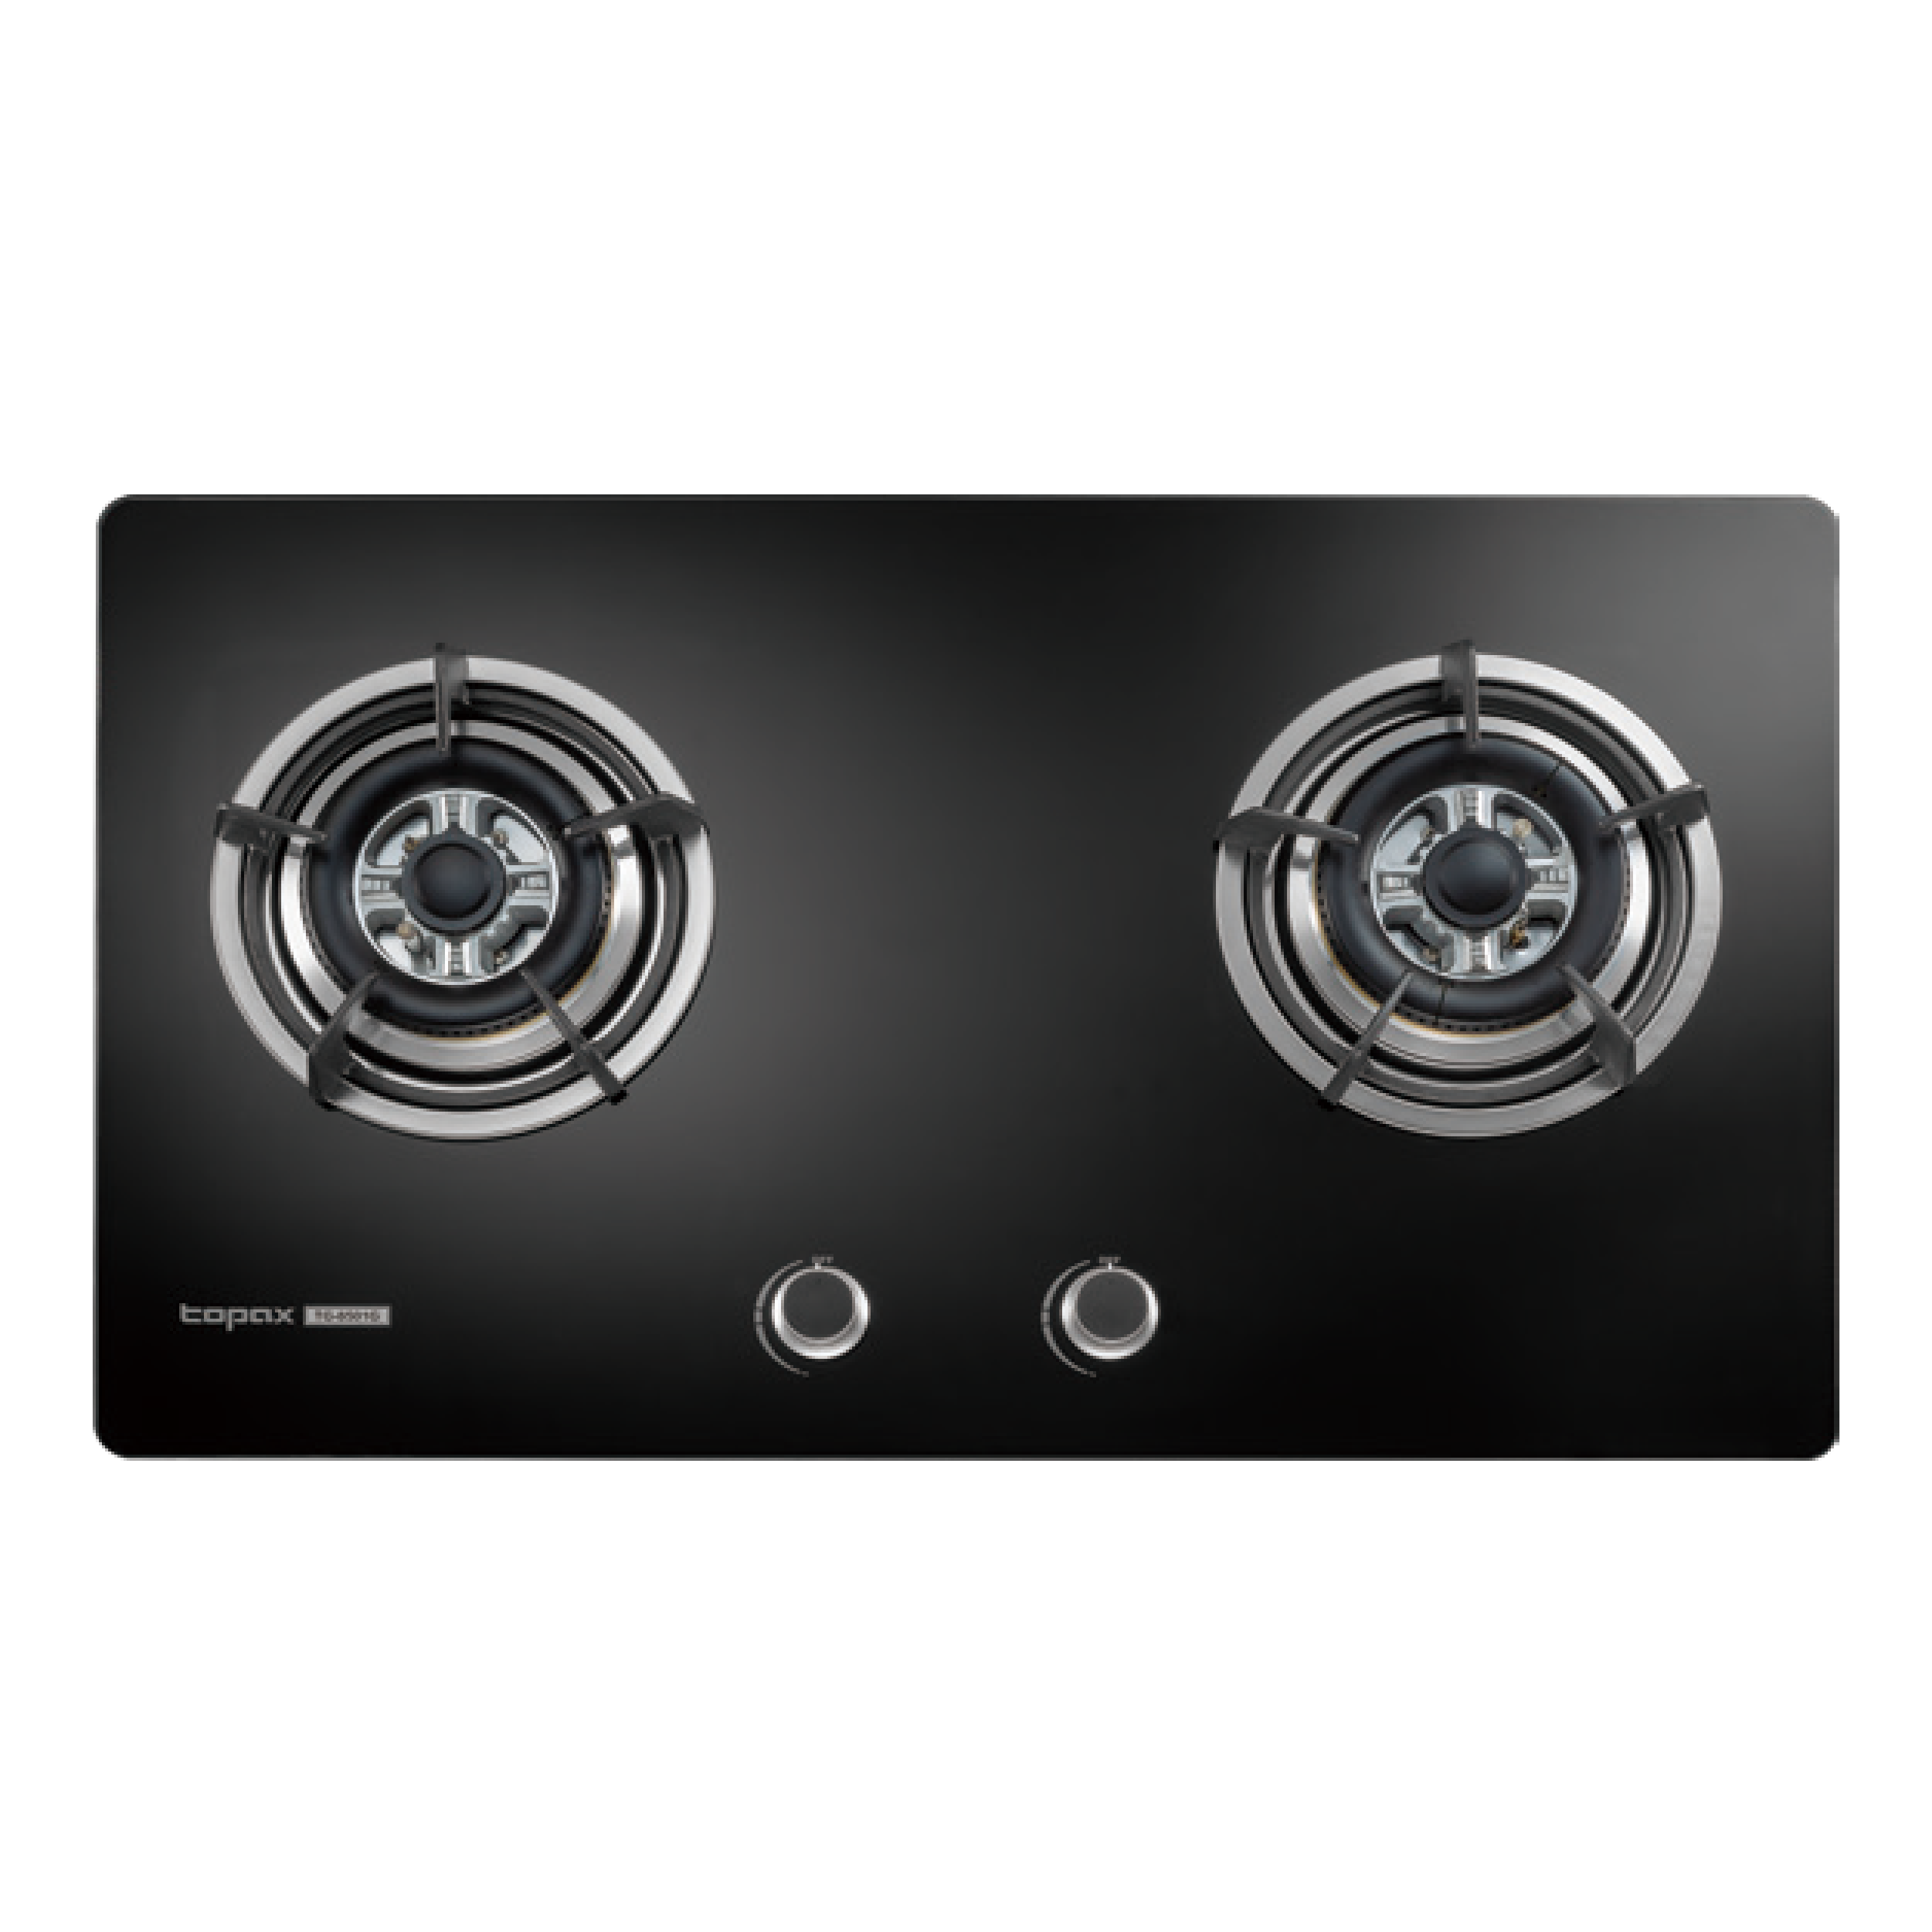gasoven: (87, 481, 1849, 1474)
